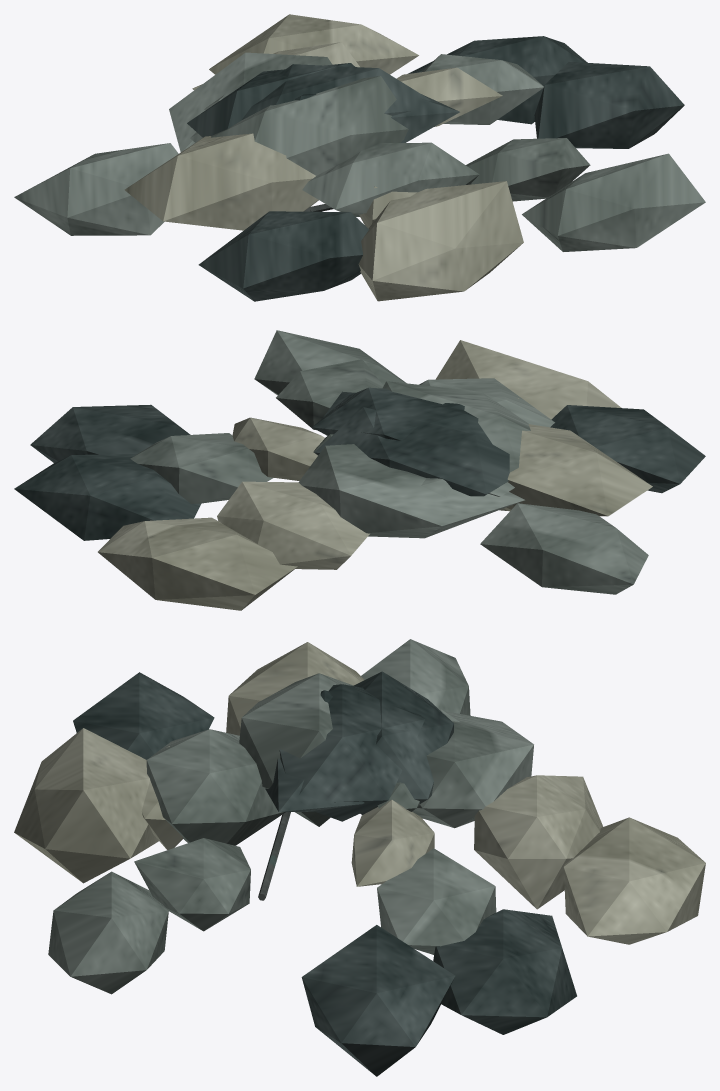
The model's file is 0121_scree_pile_21.glb.
3 renders of one model, top to bottom at view 1: azimuth 30°, elevation 25°; view 2: azimuth 150°, elevation 25°; view 3: azimuth 270°, elevation 25°, orthographic. The views are drawn at different scales.
Visible parts, largest first — view 1: stone, stone_light, stone_dark; view 2: stone, stone_light, stone_dark; view 3: stone, stone_dark, stone_light, iron.
Boxes of the visible parts, x1=… form: stone: x1=14, y1=52, x2=705, y2=251; stone_light: x1=124, y1=14, x2=523, y2=301; stone_dark: x1=187, y1=36, x2=684, y2=301; stone: x1=130, y1=330, x2=648, y2=594; stone_light: x1=98, y1=340, x2=652, y2=610; stone_dark: x1=14, y1=387, x2=705, y2=540; stone: x1=48, y1=639, x2=533, y2=994; stone_dark: x1=73, y1=671, x2=576, y2=1076; stone_light: x1=14, y1=642, x2=705, y2=944; iron: x1=258, y1=812, x2=290, y2=900.
Size of the model in its own units: 3.18 by 0.7194 by 2.58.
Materials: 4 (4 with a texture image).
